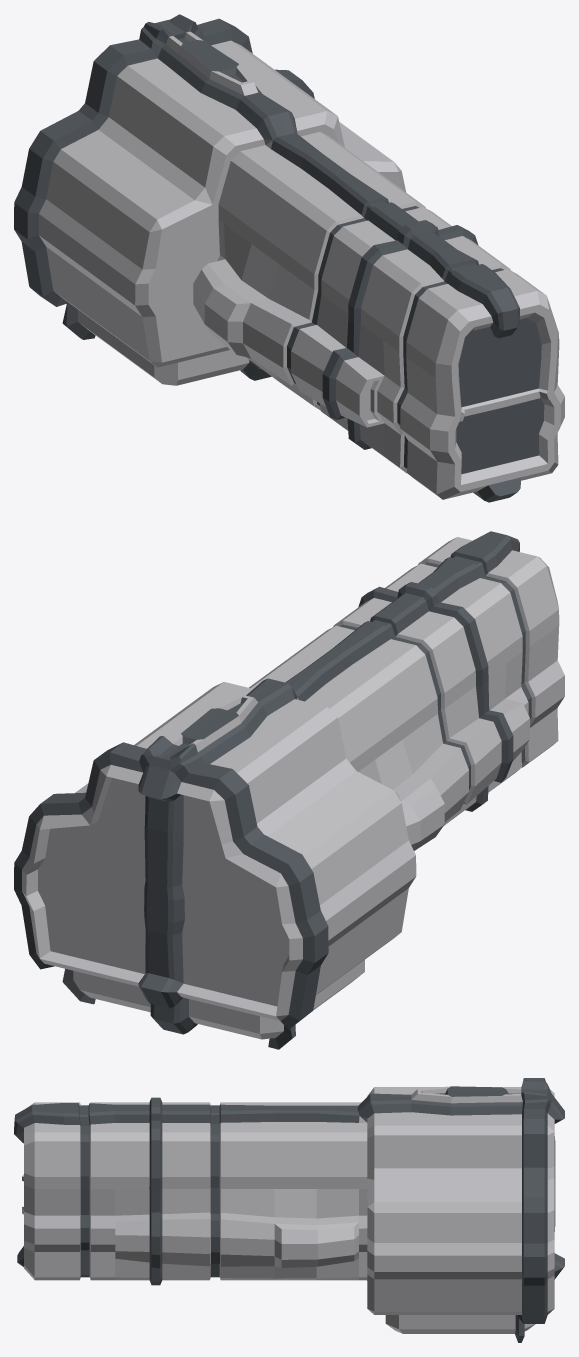
File: Mothership_02_Stern.fbx
3 renders of one model, top to bottom at view 1: azimuth 30°, elevation 25°; view 2: azimuth 150°, elevation 25°; view 3: azimuth 270°, elevation 25°, orthographic. The views are drawn at different scales.
Visible parts, largest first — view 1: Mothership_02_Stern; view 2: Mothership_02_Stern; view 3: Mothership_02_Stern.
Part boxes in pixels (x1=…): Mothership_02_Stern: x1=14, y1=14, x2=564, y2=502; Mothership_02_Stern: x1=14, y1=531, x2=564, y2=1049; Mothership_02_Stern: x1=14, y1=1078, x2=564, y2=1342.
Size of the model in its own units: 1233 by 1131 by 2554.
Materials: 3 (3 with a texture image).
